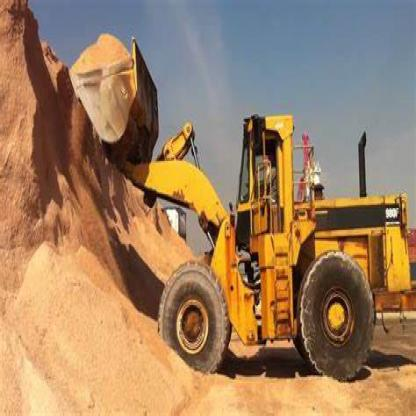bull_dozer/loader/grader: (67, 16, 410, 383)
